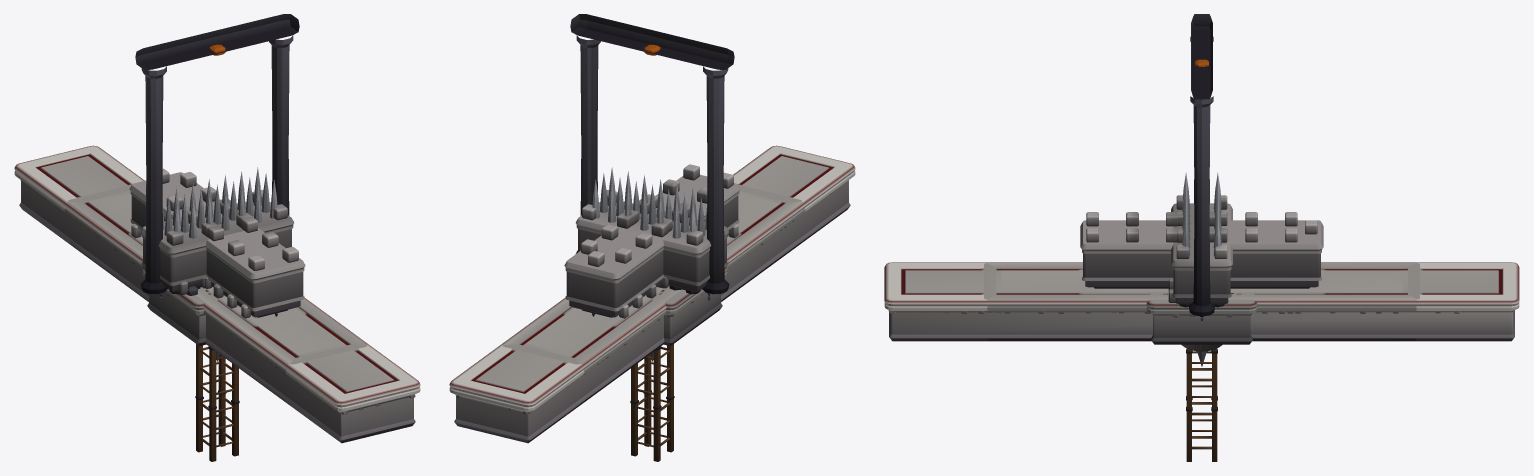
File: fortress-6-DHN8-kzp.glb
The picture shows the model from 3 angles, left to right: view 1: azimuth 30°, elevation 25°; view 2: azimuth 150°, elevation 25°; view 3: azimuth 270°, elevation 25°; orthographic projection. The views are drawn at different scales.
Parts seen in each view (by area): view 1: block_6x2x40#0, pressFrame_7x6x4x7#0, spout_2x13.4#0, block_6x2x28#0, spout_7x2#0, spikes_8x6x3#0, truss_11.8#0, block_7x2x7#0; view 2: block_6x2x40#0, pressFrame_7x6x4x7#0, spout_2x13.4#0, block_6x2x28#0, spout_7x2#0, spikes_8x6x3#0, truss_11.8#0, block_7x2x7#0; view 3: block_6x2x40#0, spout_2x13.4#0, block_6x2x28#0, pressFrame_7x6x4x7#0, block_7x2x7#0, spout_7x2#0, truss_11.8#0, spikes_8x6x3#0.
Boxes of the visible parts, left/top/right/bottom form: block_6x2x40#0: left=14, top=145, right=420, bottom=443; pressFrame_7x6x4x7#0: left=135, top=14, right=299, bottom=294; spout_2x13.4#0: left=129, top=168, right=305, bottom=318; block_6x2x28#0: left=64, top=184, right=367, bottom=406; spout_7x2#0: left=141, top=189, right=294, bottom=300; spikes_8x6x3#0: left=162, top=167, right=277, bottom=294; truss_11.8#0: left=195, top=344, right=239, bottom=461; block_7x2x7#0: left=142, top=266, right=218, bottom=346; block_6x2x40#0: left=449, top=145, right=855, bottom=443; pressFrame_7x6x4x7#0: left=570, top=14, right=734, bottom=294; spout_2x13.4#0: left=564, top=164, right=740, bottom=318; block_6x2x28#0: left=502, top=184, right=805, bottom=406; spout_7x2#0: left=575, top=189, right=728, bottom=300; spikes_8x6x3#0: left=592, top=167, right=707, bottom=294; truss_11.8#0: left=630, top=344, right=674, bottom=461; block_7x2x7#0: left=651, top=266, right=727, bottom=346; block_6x2x40#0: left=884, top=262, right=1519, bottom=341; spout_2x13.4#0: left=1080, top=212, right=1323, bottom=288; block_6x2x28#0: left=980, top=262, right=1423, bottom=341; pressFrame_7x6x4x7#0: left=1189, top=14, right=1214, bottom=316; block_7x2x7#0: left=1146, top=293, right=1257, bottom=344; spout_7x2#0: left=1168, top=195, right=1232, bottom=321; truss_11.8#0: left=1186, top=348, right=1217, bottom=461; spikes_8x6x3#0: left=1179, top=172, right=1224, bottom=307.
Size of the model in its own units: 10.9 by 28.2 by 40.
